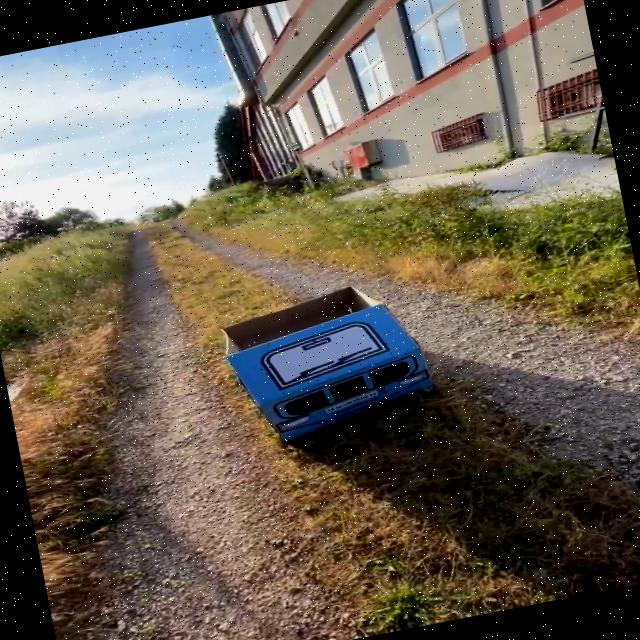blue_car: (167, 260, 487, 481)
